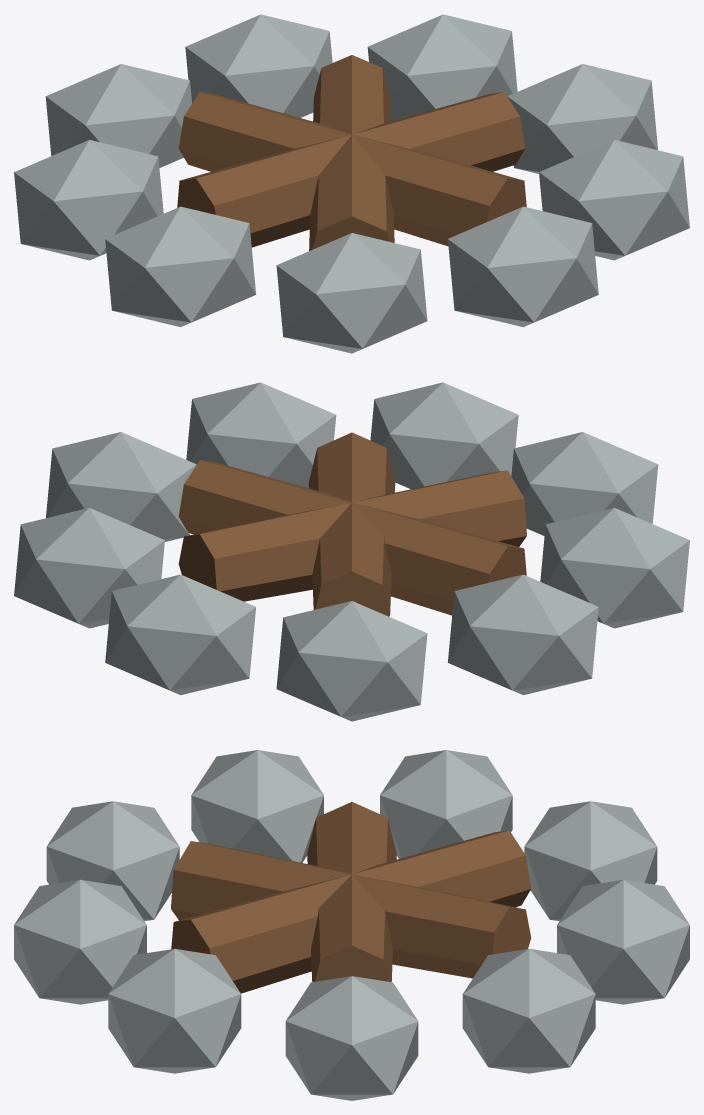
The model's file is CC_Campfire.fbx.
3 renders of one model, top to bottom at view 1: azimuth 30°, elevation 25°; view 2: azimuth 150°, elevation 25°; view 3: azimuth 270°, elevation 25°, orthographic. The views are drawn at different scales.
Visible parts, largest first — view 1: Firewood.004, Firewood.002, Stone ring.006, Stone ring.005, Stone ring.007, Stone ring.004, Stone ring.008, Firewood.003, Stone ring, Stone ring.001, Stone ring.002, Stone ring.003; view 2: Firewood.003, Firewood.002, Stone ring.003, Stone ring.004, Stone ring.002, Stone ring.005, Stone ring.001, Stone ring.007, Stone ring, Firewood.004, Stone ring.008, Stone ring.006; view 3: Firewood.004, Firewood.003, Stone ring.001, Stone ring.008, Stone ring, Stone ring.002, Stone ring.007, Stone ring.005, Firewood.002, Stone ring.004, Stone ring.003, Stone ring.006.
Part boxes in pixels (<box>): Firewood.004: <box>178,92,526,246</box>; Firewood.002: <box>177,92,525,247</box>; Stone ring.006: <box>276,233,427,353</box>; Stone ring.005: <box>105,206,256,327</box>; Stone ring.007: <box>448,206,598,327</box>; Stone ring.004: <box>14,140,163,260</box>; Stone ring.008: <box>539,140,689,260</box>; Firewood.003: <box>309,55,394,250</box>; Stone ring: <box>507,64,657,173</box>; Stone ring.001: <box>367,14,517,121</box>; Stone ring.002: <box>185,14,332,117</box>; Stone ring.003: <box>45,64,191,167</box>; Firewood.003: <box>178,470,526,601</box>; Firewood.002: <box>178,460,526,615</box>; Stone ring.003: <box>276,601,427,721</box>; Stone ring.004: <box>447,574,598,695</box>; Stone ring.002: <box>105,574,255,695</box>; Stone ring.005: <box>540,508,689,628</box>; Stone ring.001: <box>14,508,164,628</box>; Stone ring.007: <box>370,382,518,489</box>; Stone ring: <box>46,432,196,541</box>; Firewood.004: <box>308,432,395,616</box>; Stone ring.008: <box>186,382,336,488</box>; Stone ring.006: <box>511,432,658,535</box>; Firewood.004: <box>171,830,531,993</box>; Firewood.003: <box>171,841,531,978</box>; Stone ring.001: <box>462,948,595,1073</box>; Stone ring.008: <box>108,948,241,1073</box>; Stone ring: <box>285,976,418,1100</box>; Stone ring.002: <box>557,879,689,1004</box>; Stone ring.007: <box>14,879,146,1004</box>; Stone ring.005: <box>191,750,323,862</box>; Firewood.002: <box>307,802,396,982</box>; Stone ring.004: <box>380,750,512,858</box>; Stone ring.003: <box>524,801,657,921</box>; Stone ring.006: <box>46,801,179,921</box>.
Bounding box in the file's own units: 1.52 × 0.3 × 1.47.
